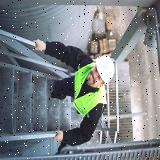Helmet: (96, 54, 115, 84)
Vest: (74, 63, 107, 117)
